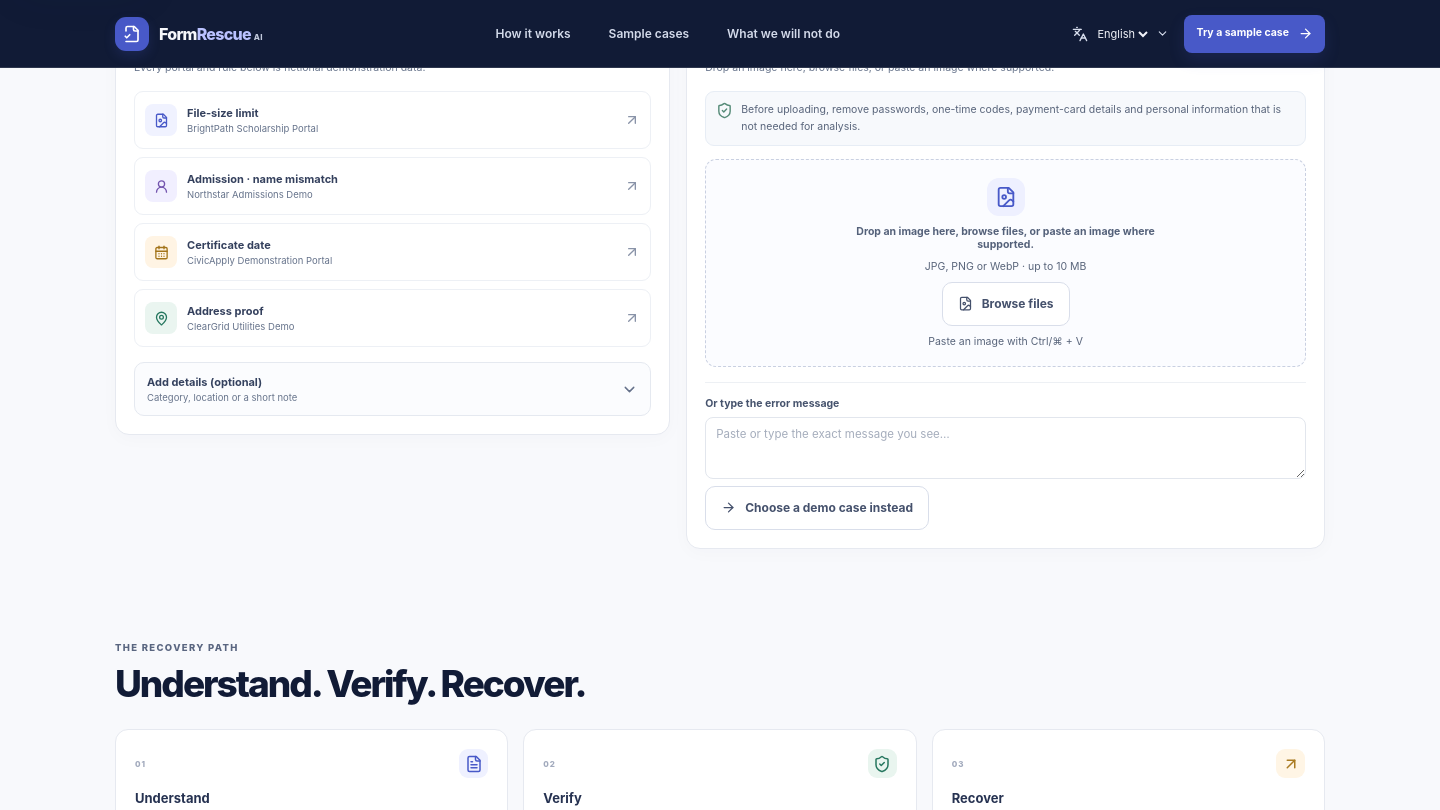
Scenario: FormRescue user workflows › sends manual-error users to sample cases without implying their text was analyzed
The image size is (1440, 810).
(page scrolled)
Type "My portal says upload failed." into the text box labelled "Or type the error message" at (1006, 448), box top-left (705, 417), bottom-right (1306, 479)
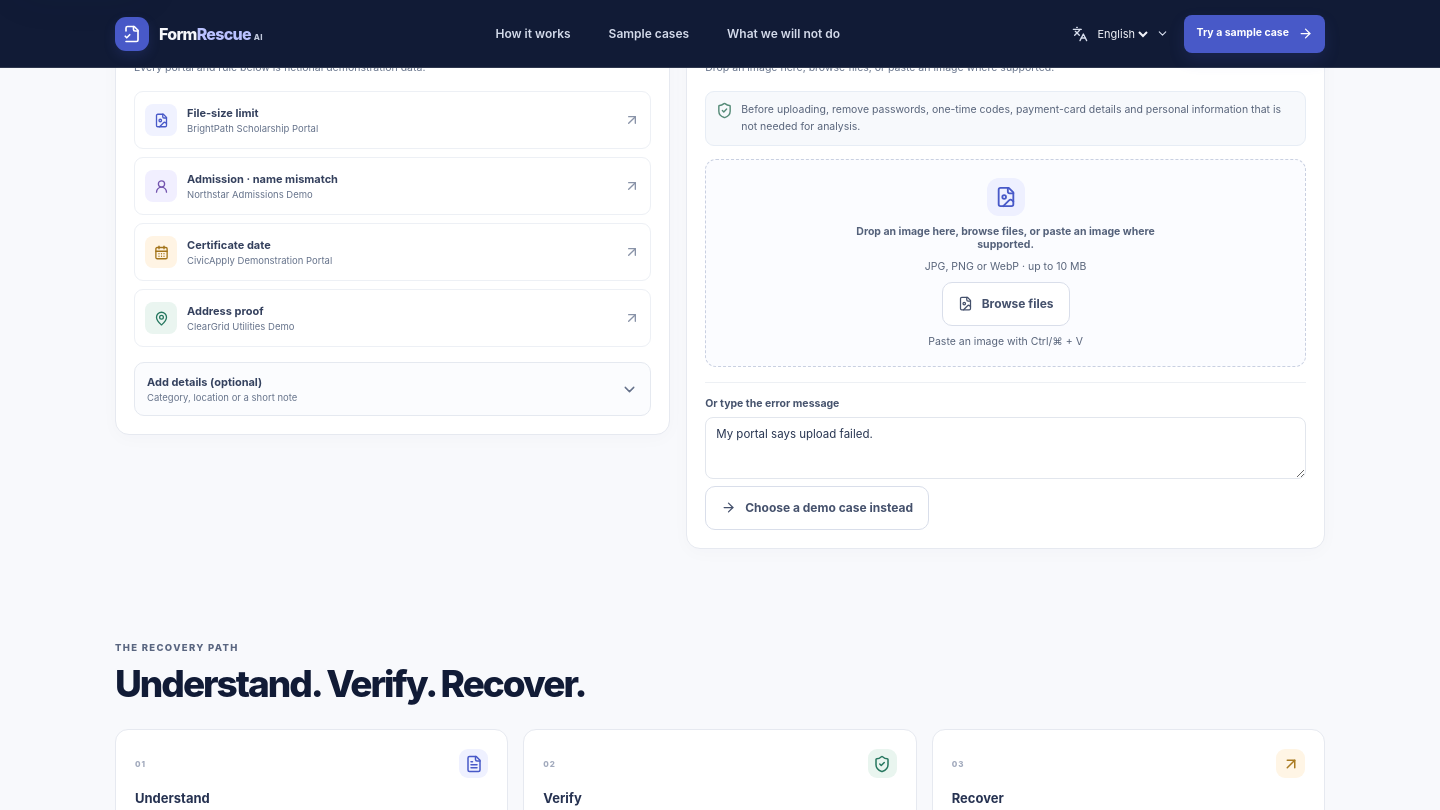
Click the button "Choose a demo case instead" at (817, 508), box top-left (705, 486), bottom-right (929, 530)
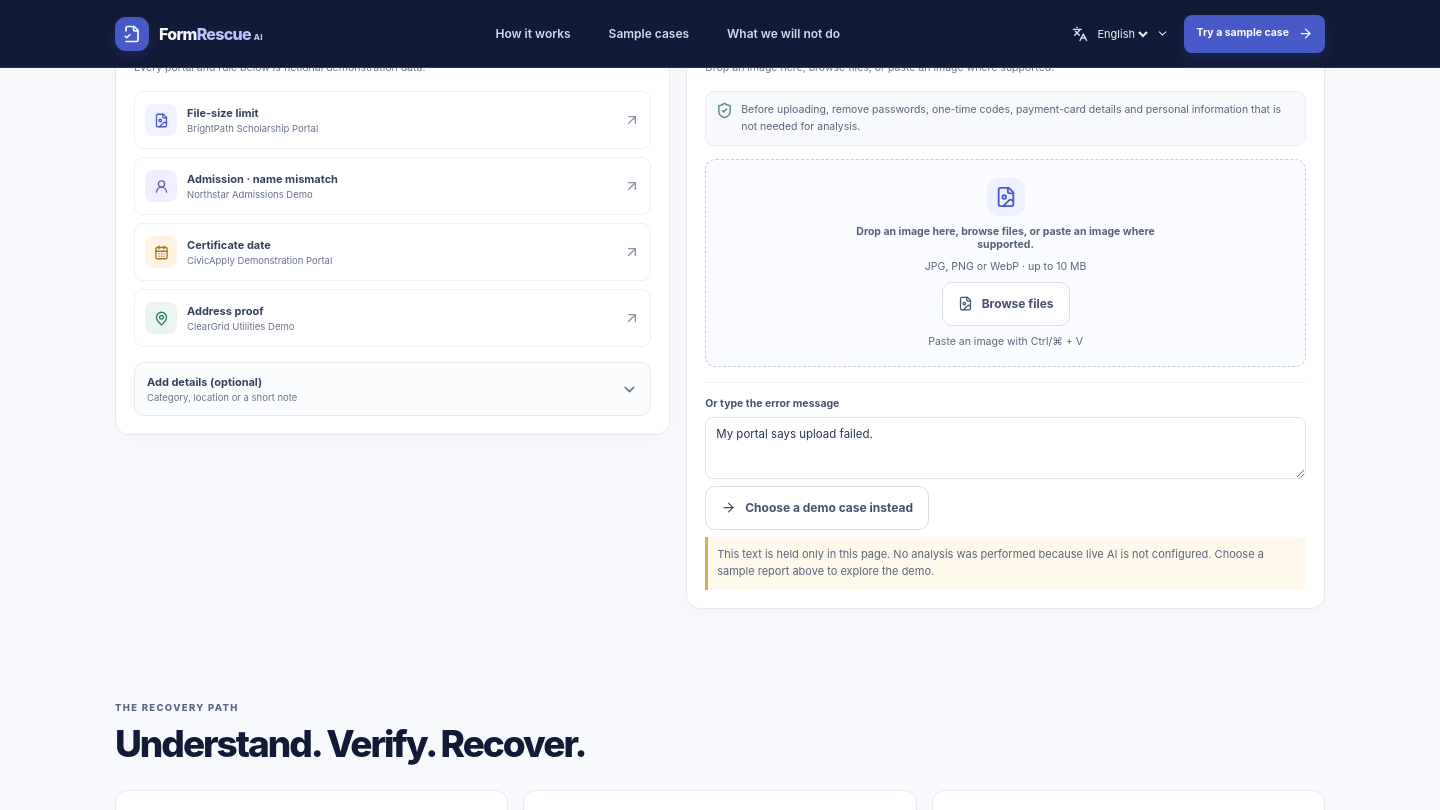
Expected: the text "No analysis was performed because live AI is not configured" is shown, top-left (717, 547), bottom-right (1264, 578)
